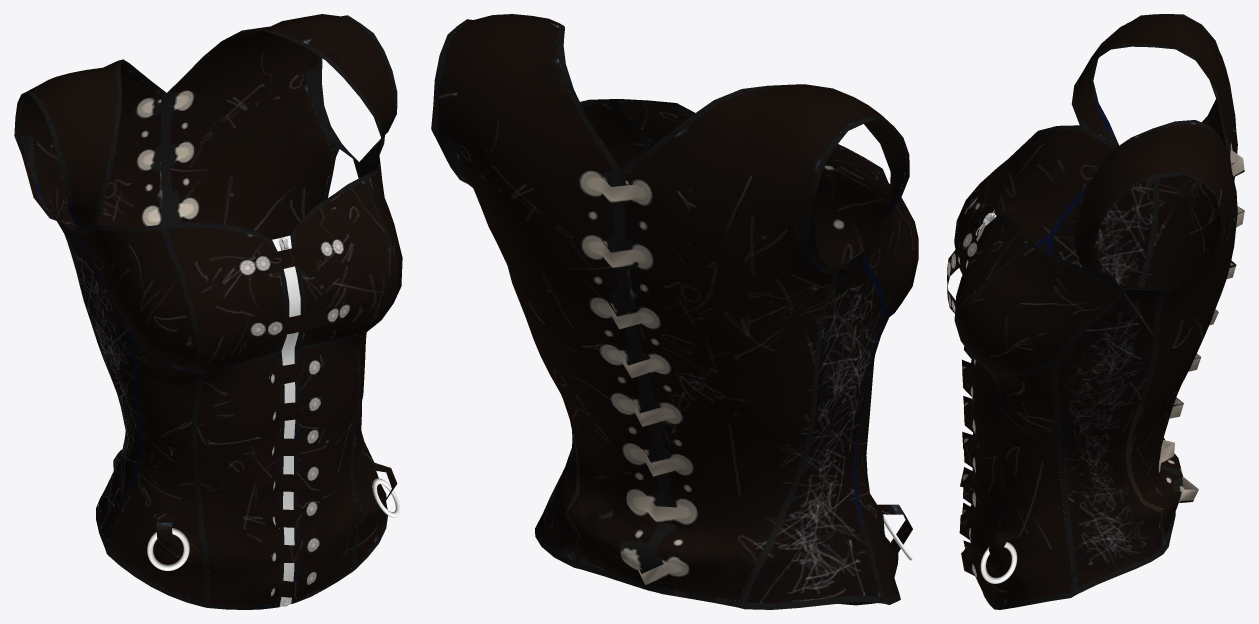
The model's file is noir-leather-bustier.glb.
3 renders of one model, left to right at view 1: azimuth 30°, elevation 25°; view 2: azimuth 150°, elevation 25°; view 3: azimuth 270°, elevation 25°, orthographic. The views are drawn at different scales.
Visible parts, largest first — view 1: Object_3, Object_4, Object_5, Object_2; view 2: Object_3, Object_4; view 3: Object_3, Object_4, Object_2.
Part boxes in pixels (x1=…): Object_3: x1=14, y1=14, x2=402, y2=605; Object_4: x1=14, y1=15, x2=397, y2=609; Object_5: x1=272, y1=235, x2=300, y2=606; Object_2: x1=147, y1=237, x2=400, y2=570; Object_3: x1=438, y1=14, x2=918, y2=603; Object_4: x1=431, y1=19, x2=909, y2=609; Object_3: x1=947, y1=14, x2=1244, y2=604; Object_4: x1=964, y1=14, x2=1229, y2=609; Object_2: x1=975, y1=212, x2=1017, y2=583.
Bounding box in the file's own units: 35.52 × 49.68 × 26.64.
Materials: 5 (3 with a texture image).
